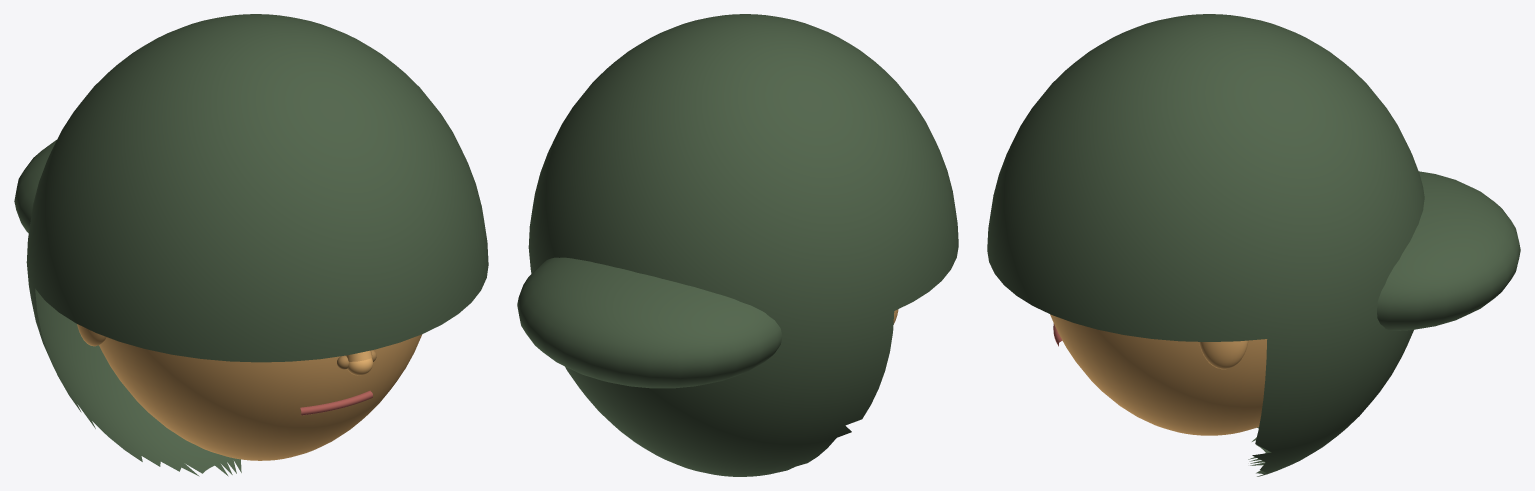
File: 11-capuche.glb
3 views of the same model, side by side, from view 1: azimuth 30°, elevation 25°; view 2: azimuth 150°, elevation 25°; view 3: azimuth 270°, elevation 25° (orthographic). The views are drawn at different scales.
Size of the model in its own units: 0.3635 by 0.3974 by 0.4455.
